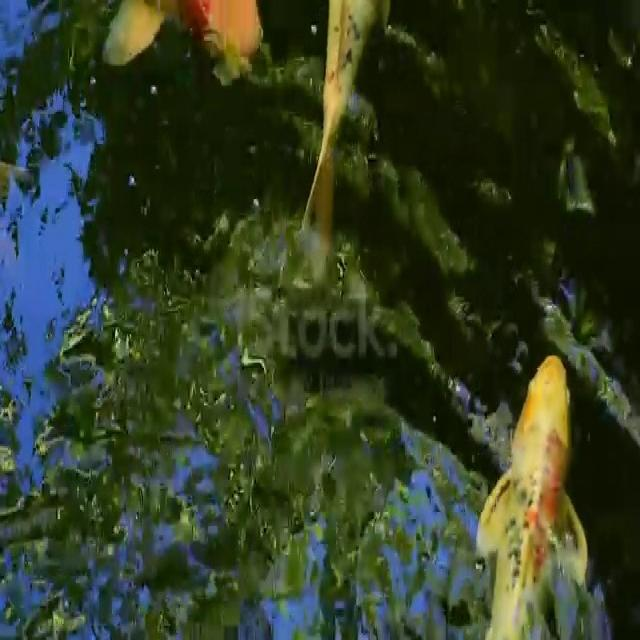fish: (478, 309, 599, 640), (298, 0, 402, 287), (91, 0, 265, 111)
